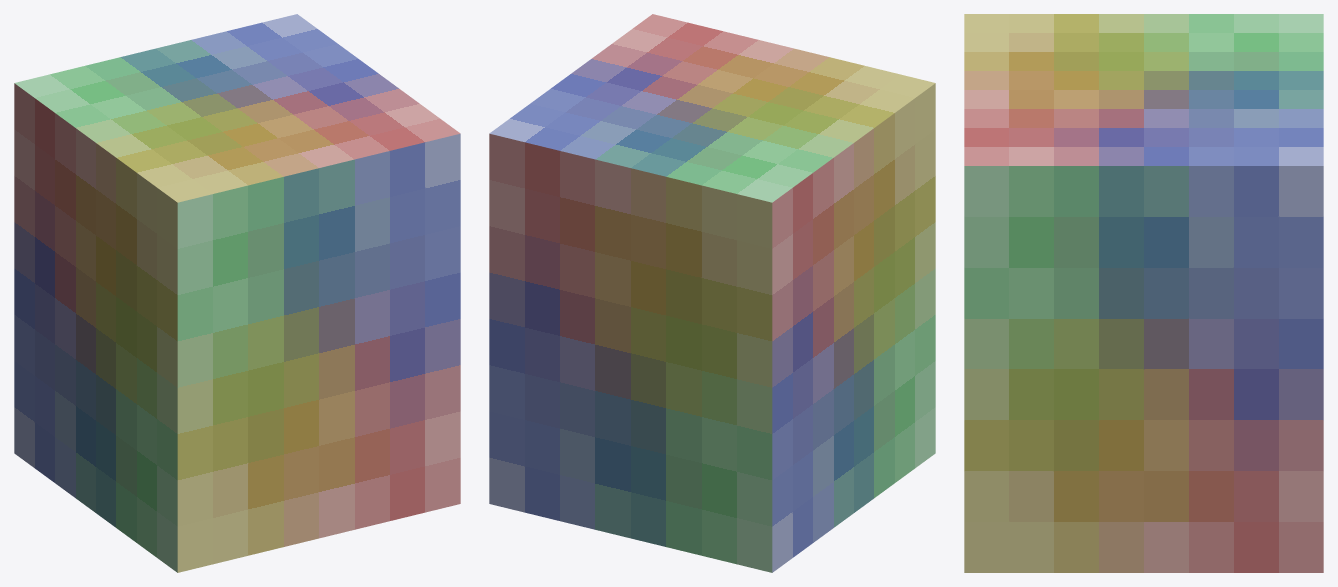
File: 8_bit_test.dae
3 renders of one model, left to right at view 1: azimuth 30°, elevation 25°; view 2: azimuth 150°, elevation 25°; view 3: azimuth 270°, elevation 25°, orthographic. The views are drawn at different scales.
Visible parts, largest first — view 1: Cube; view 2: Cube; view 3: Cube.
Boxes of the visible parts, x1=… form: Cube: x1=14, y1=14, x2=460, y2=572; Cube: x1=489, y1=14, x2=935, y2=572; Cube: x1=964, y1=14, x2=1323, y2=572.
Bounding box in the file's own units: 0.0285 × 0.0285 × 0.0356.
Materials: 1 (1 with a texture image).
